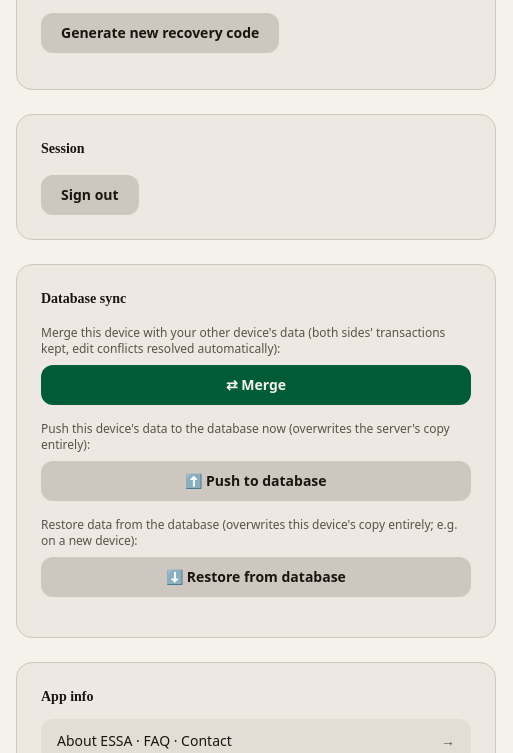
a first merge with no record says what may differ
(page scrolled)
Click the button "⇄ Merge": click(256, 384) [41,364,471,404]
(page scrolled)
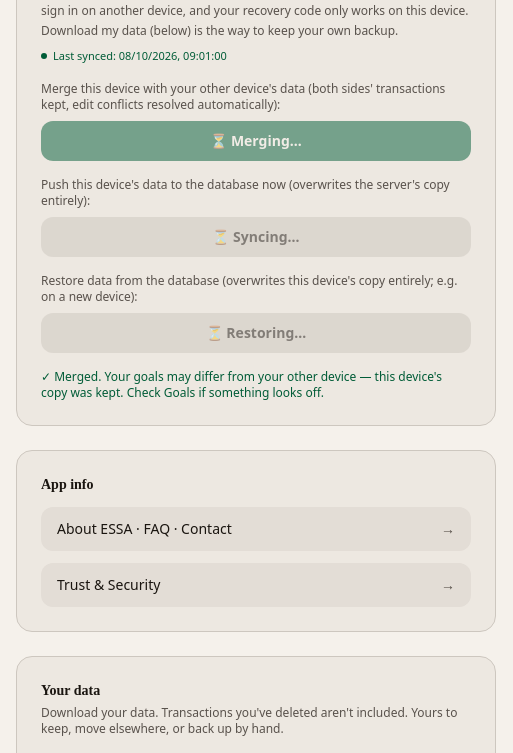
Check: the text "✓ Merged. Your goals may differ from your other device — this device's copy was kept. Check Goals if something looks off" is shown, box [41,368,442,400]
